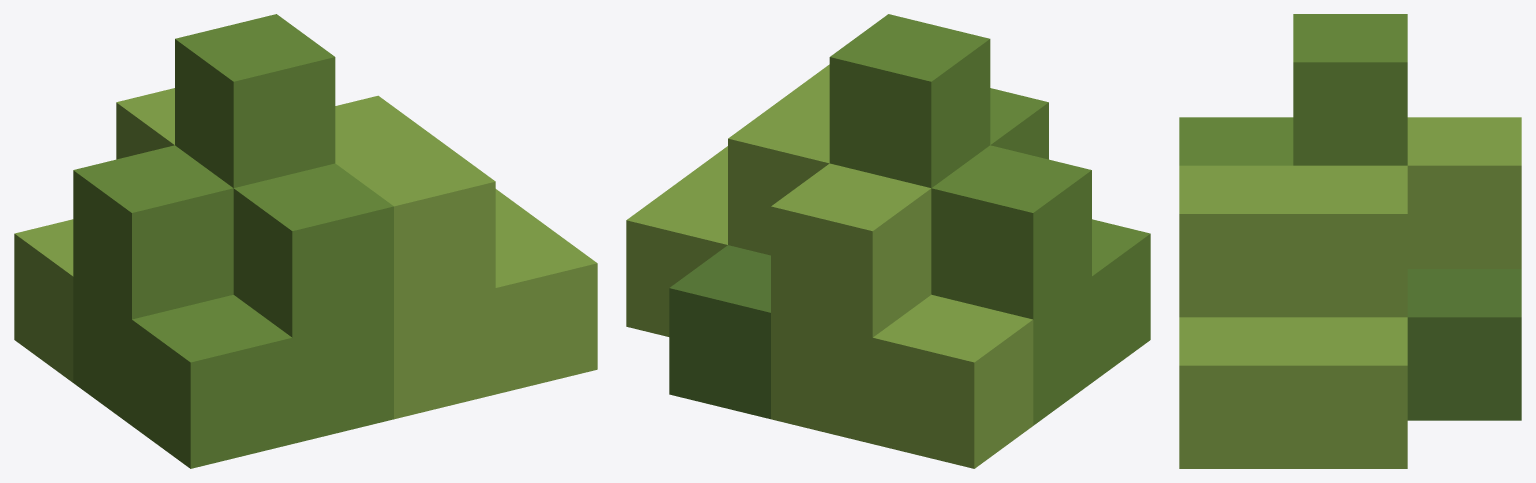
File: SM_VMF_GroundStudy_GrassClump_Low.fbx
The picture shows the model from 3 angles, left to right: view 1: azimuth 30°, elevation 25°; view 2: azimuth 150°, elevation 25°; view 3: azimuth 270°, elevation 25°; orthographic projection. The views are drawn at different scales.
Parts seen in each view (by area): view 1: SM_VMF_GroundStudy_GrassClump_Low_Surface; view 2: SM_VMF_GroundStudy_GrassClump_Low_Surface; view 3: SM_VMF_GroundStudy_GrassClump_Low_Surface.
Part boxes in pixels (x1,y1,x2,y2): SM_VMF_GroundStudy_GrassClump_Low_Surface: (14, 14, 597, 468); SM_VMF_GroundStudy_GrassClump_Low_Surface: (626, 14, 1150, 468); SM_VMF_GroundStudy_GrassClump_Low_Surface: (1179, 14, 1521, 468).
Bounding box in the file's own units: 16 × 12 × 12.
Materials: 1 (1 with a texture image).
